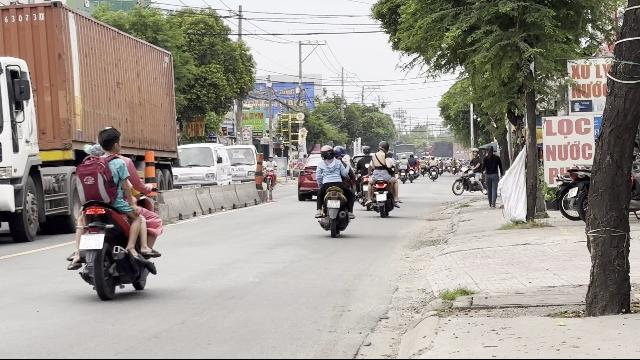licenseplate: (80, 234, 104, 250)
motorcyclist: (64, 125, 164, 299)
nohelmet: (96, 126, 122, 154)
